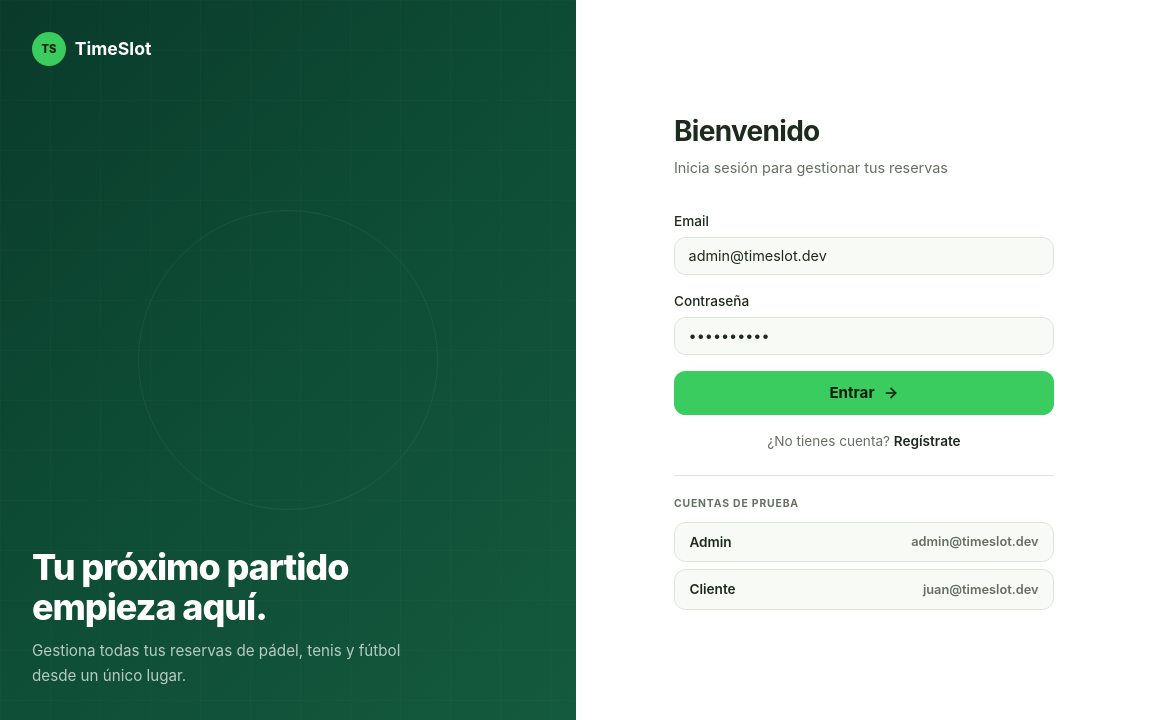
LoginPage › shows error on failed login
Click the button "Entrar".
click(864, 393)  # box [674,371,1054,415]
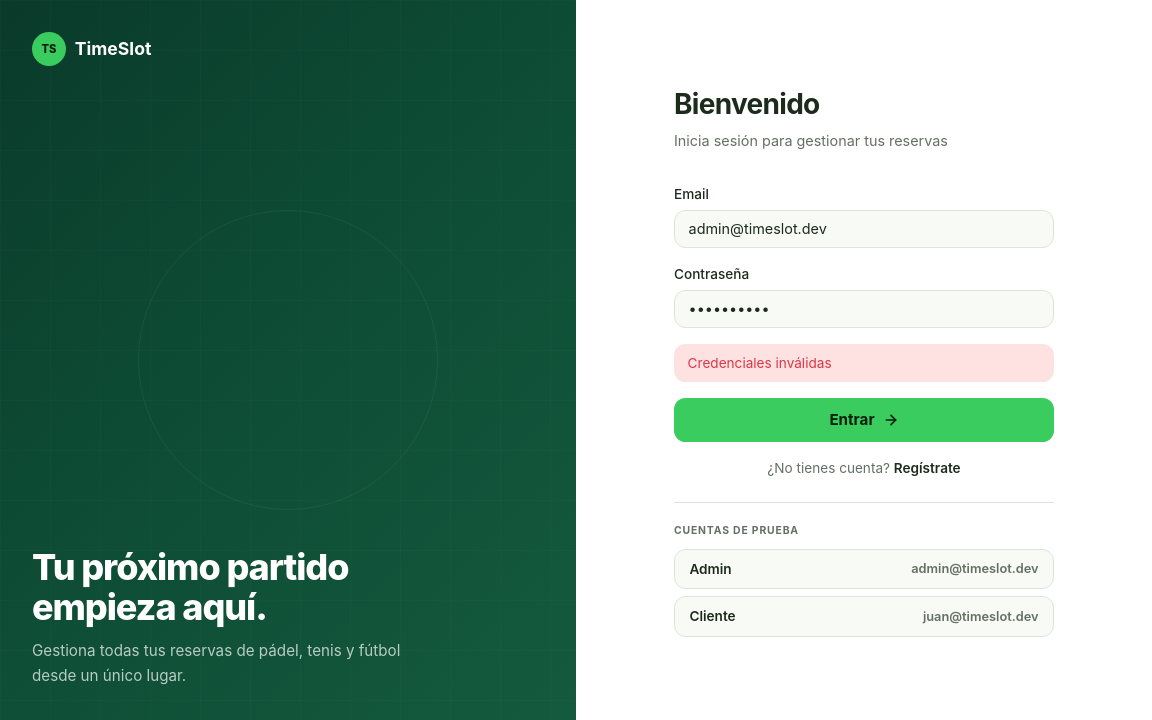
expect the text "Credenciales inválidas" is shown: met, box [674,344,1054,382]
